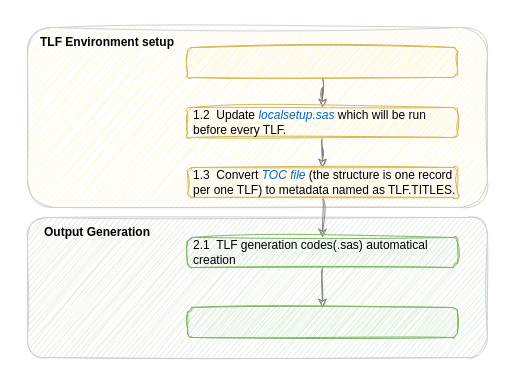
Some shapes in this 514 by 384 pixel diagram are drawn without their labels. The centre of each missing label's shape, as x and y in pixels:
"1.1 Copy O-GEM to study folder." belongs at (x=322, y=62).
"3.1 TLF codes modification and execution." belongs at (x=322, y=322).
